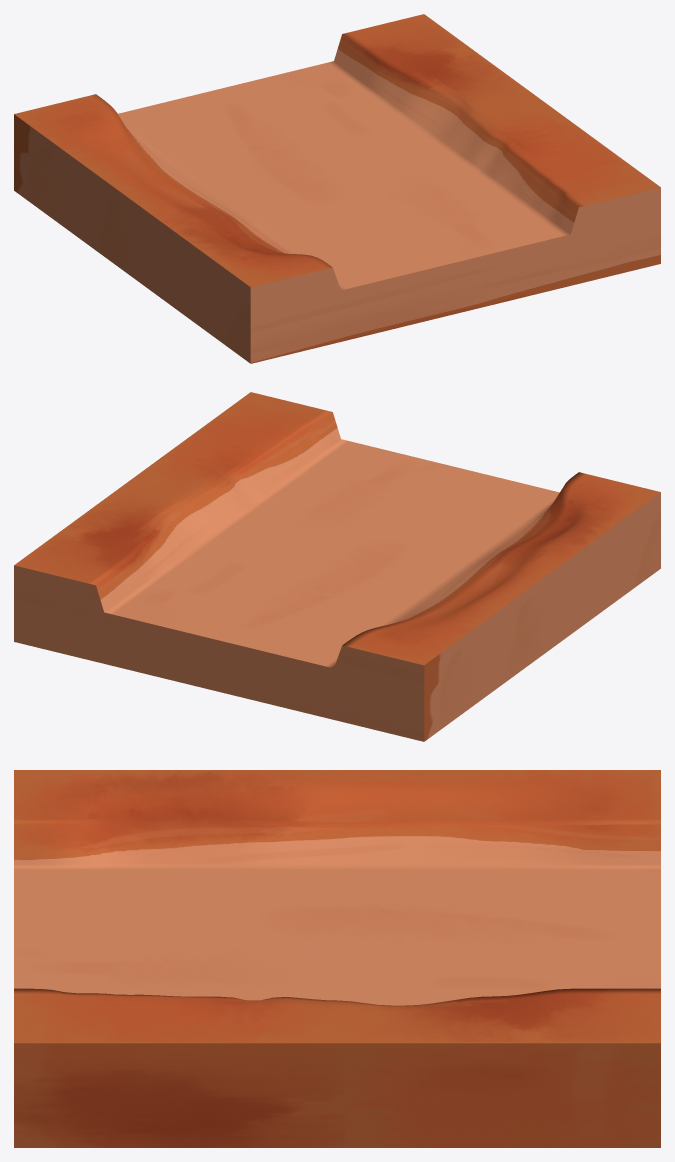
The model's file is Path_straight_textured.fbx.
The picture shows the model from 3 angles, top to bottom: view 1: azimuth 30°, elevation 25°; view 2: azimuth 150°, elevation 25°; view 3: azimuth 270°, elevation 25°; orthographic projection. The views are drawn at different scales.
Parts seen in each view (by area): view 1: pCube2; view 2: pCube2; view 3: pCube2.
Boxes of the visible parts, left/top/right/bottom form: pCube2: left=14, top=14, right=660, bottom=363; pCube2: left=14, top=392, right=660, bottom=741; pCube2: left=14, top=770, right=660, bottom=1147.
Size of the model in its own units: 3.81 by 0.6788 by 3.81.
